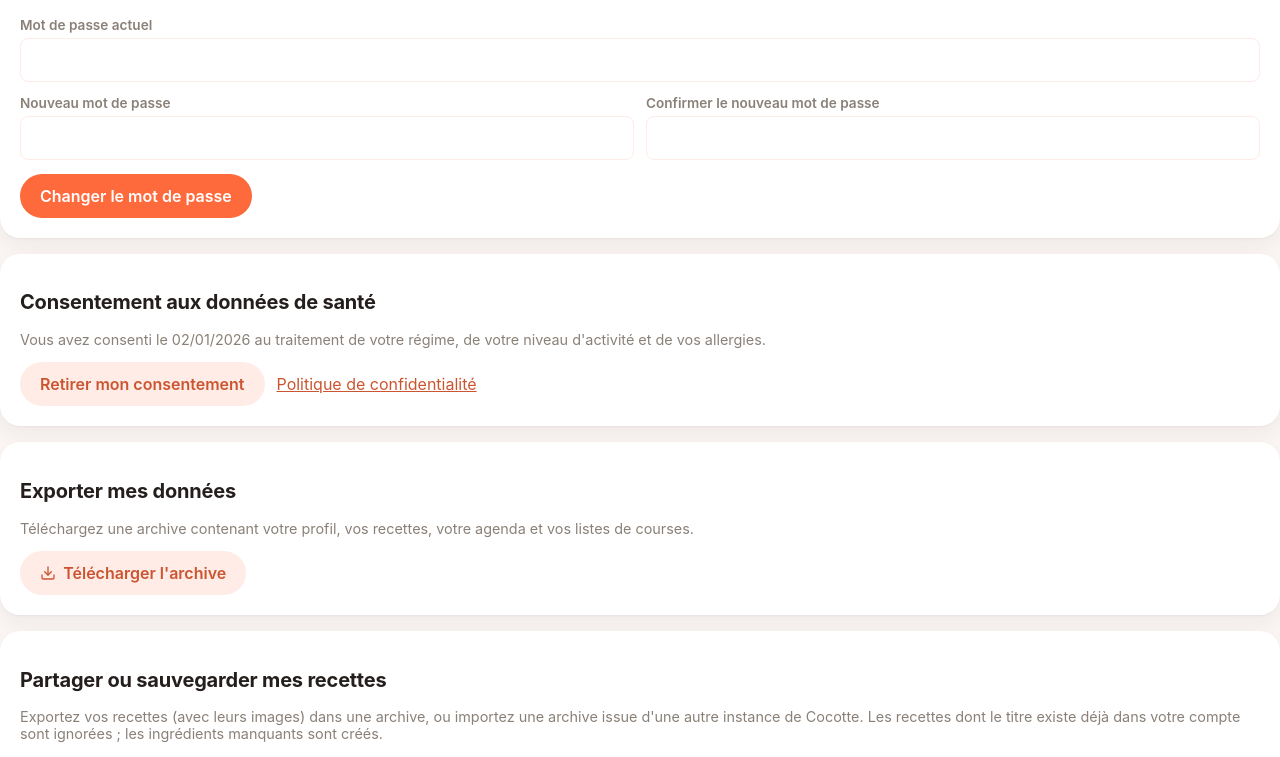
Test: AccountSettingsView health data consent › shows the consent date and lets the user withdraw it
(page scrolled)
Expected: the element with test id "consent-card" shows "Vous avez consenti le", [20,331,766,348]
Step 1. Click the button "Retirer mon consentement" → click(142, 384), box [20,362,264,406]
(page scrolled)
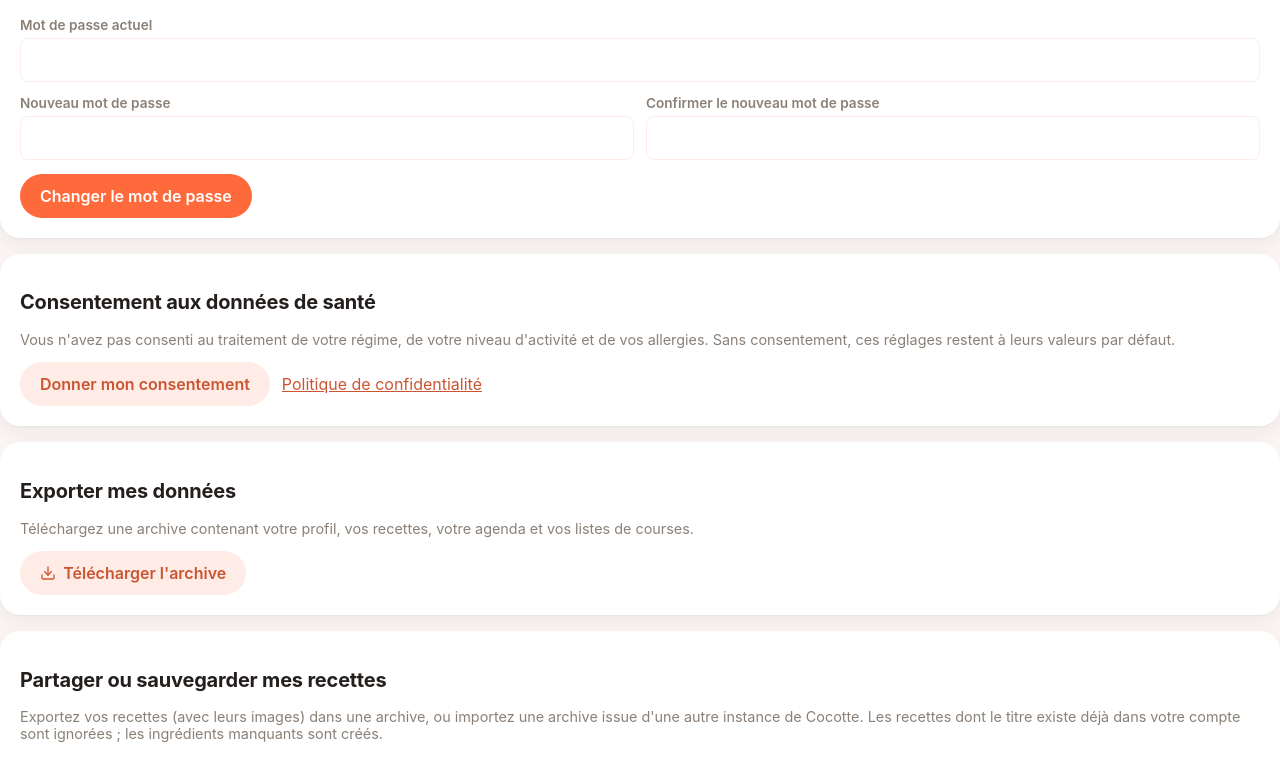
Result: the element with test id "consent-card" shows "Vous n'avez pas consenti" at [20,331,1175,348]
